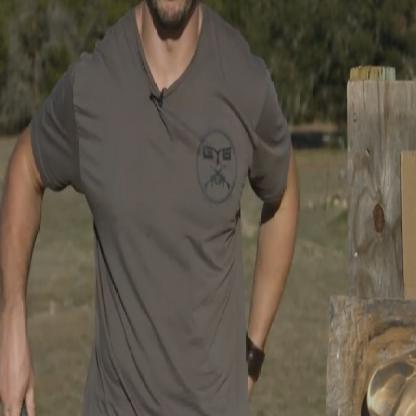knife: (0, 356, 50, 416)
